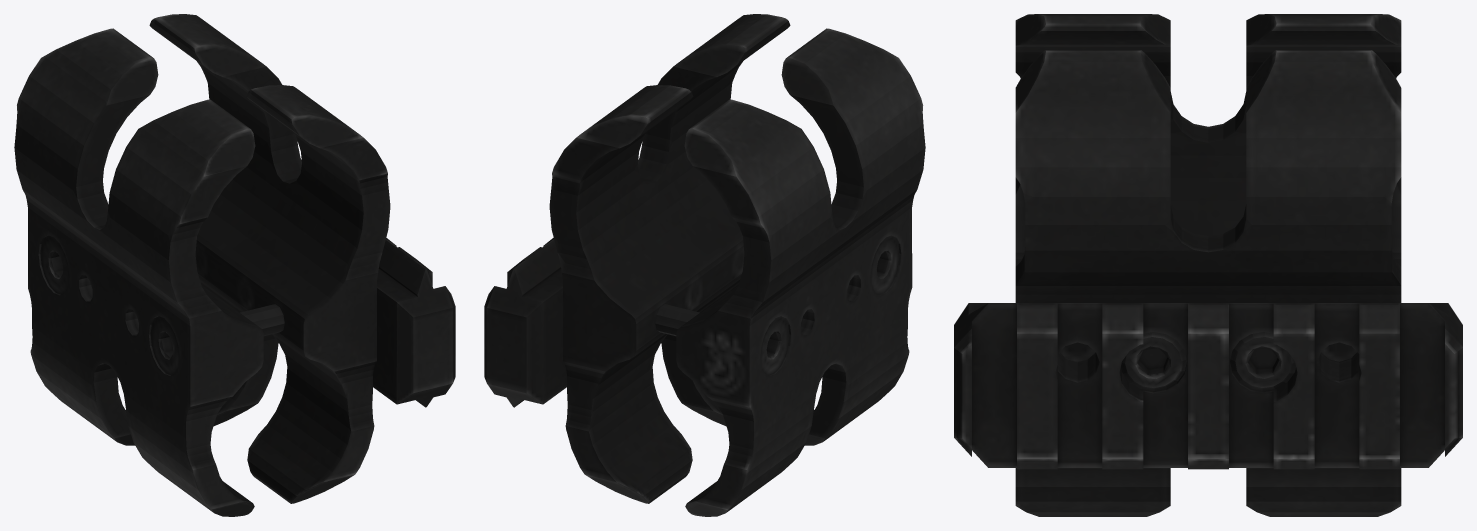
The picture shows the model from 3 angles, left to right: view 1: azimuth 30°, elevation 25°; view 2: azimuth 150°, elevation 25°; view 3: azimuth 270°, elevation 25°; orthographic projection. The views are drawn at different scales.
Visible parts, largest first — view 1: TW_676177b09cfcc4c25b027446_PZ_Import; view 2: TW_676177b09cfcc4c25b027446_PZ_Import; view 3: TW_676177b09cfcc4c25b027446_PZ_Import.
Boxes of the visible parts, x1,y1,x2,y2 form: TW_676177b09cfcc4c25b027446_PZ_Import: (14, 14, 455, 516); TW_676177b09cfcc4c25b027446_PZ_Import: (484, 14, 925, 516); TW_676177b09cfcc4c25b027446_PZ_Import: (954, 14, 1462, 516).
Size of the model in its own units: 0.0241 by 0.0344 by 0.0343.
Materials: 1 (1 with a texture image).
